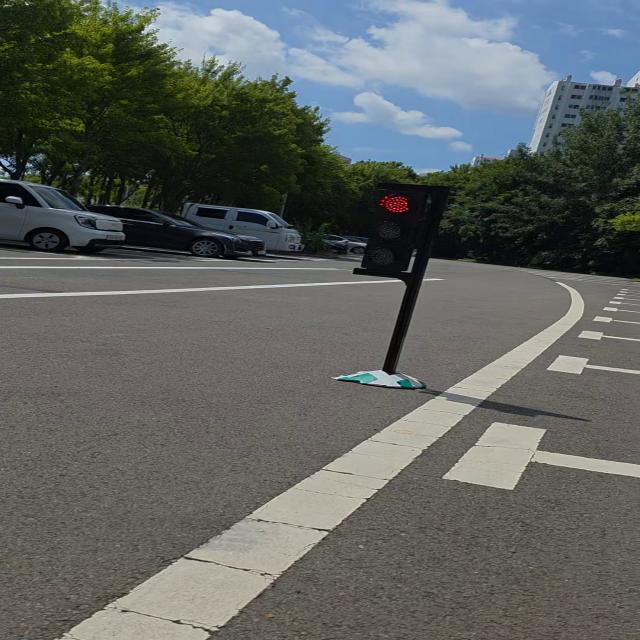red: (354, 184, 437, 276)
